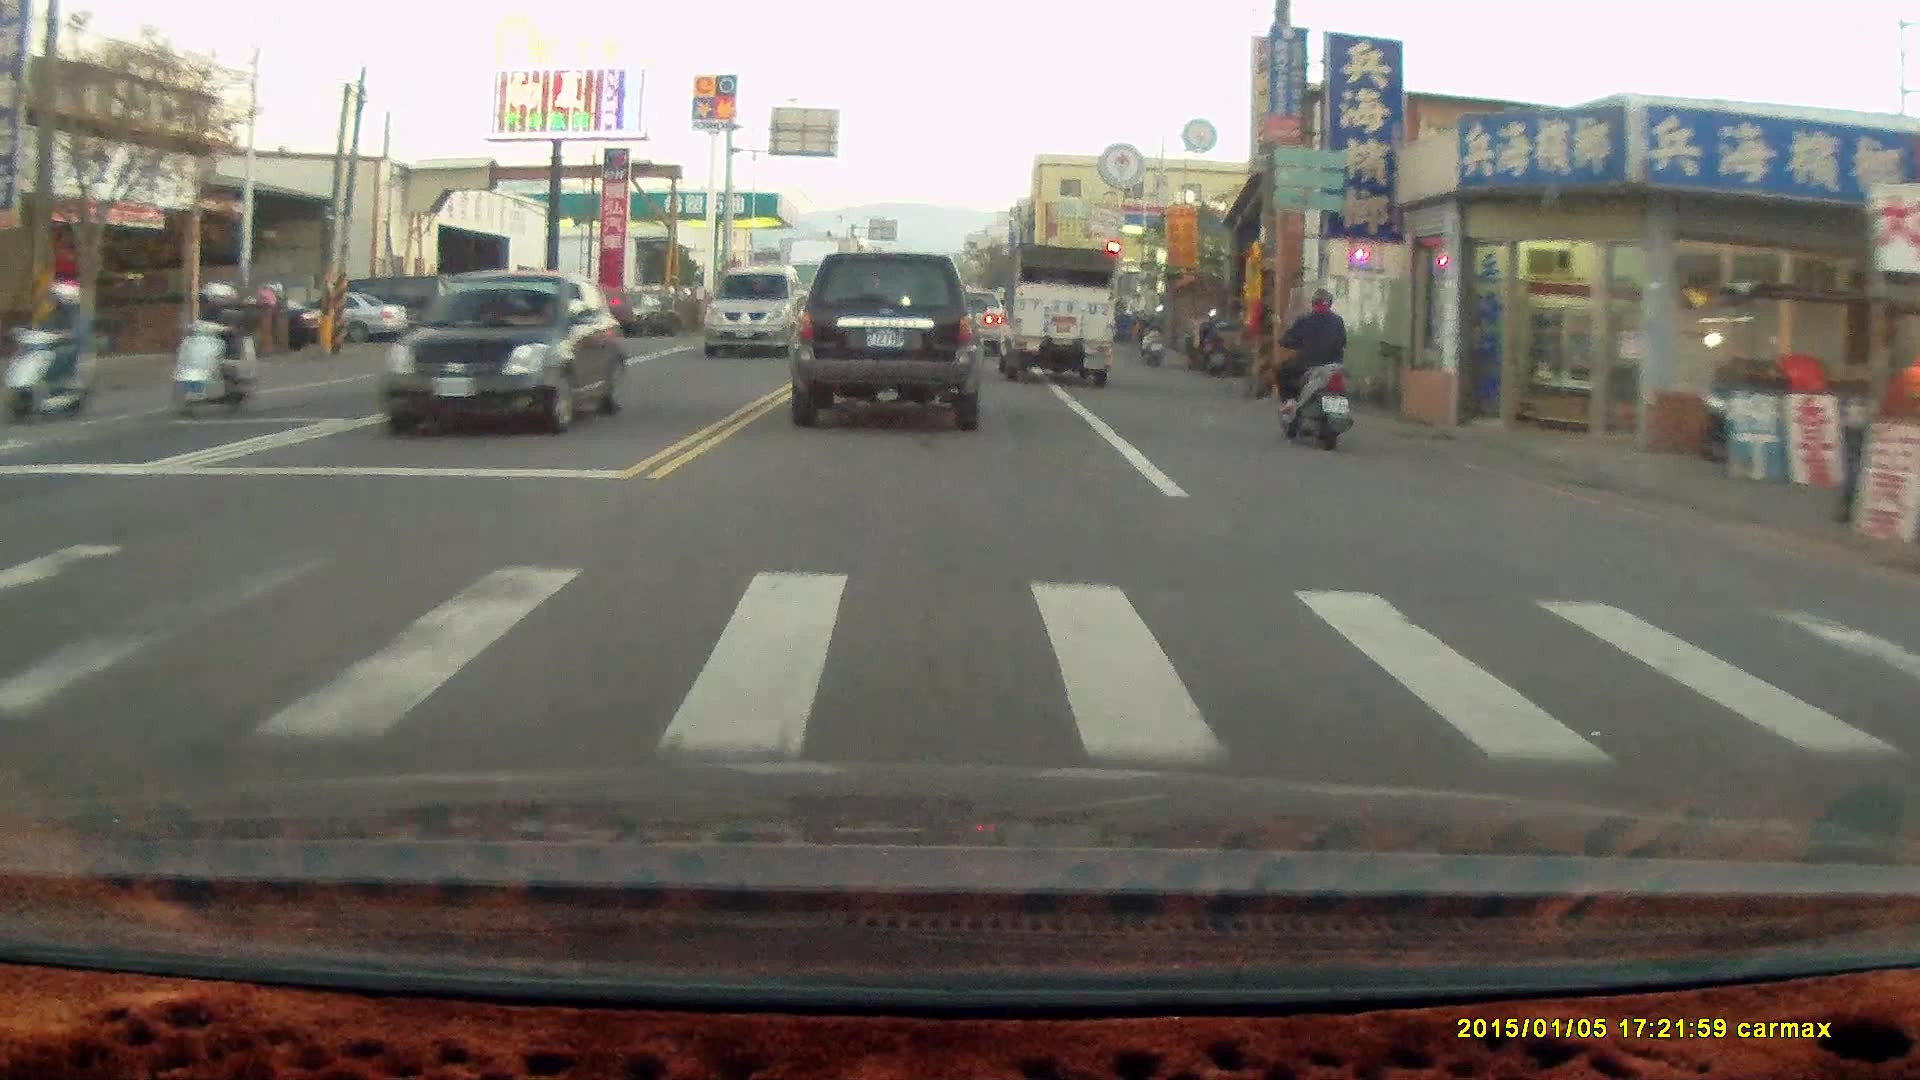rider: (1262, 275, 1355, 442), (0, 274, 98, 429), (164, 271, 268, 414)
vehicle: (384, 268, 629, 429), (787, 250, 984, 431), (993, 242, 1116, 388), (702, 261, 811, 357), (460, 286, 583, 355)
